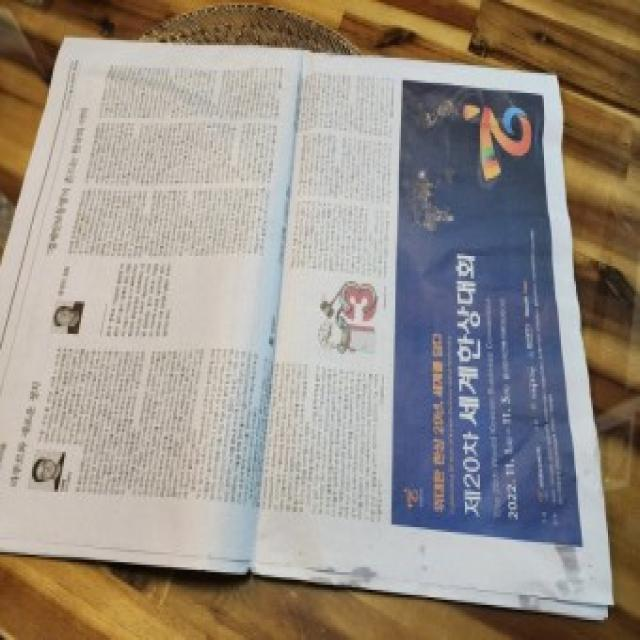Newspaper: (0, 29, 613, 624)
